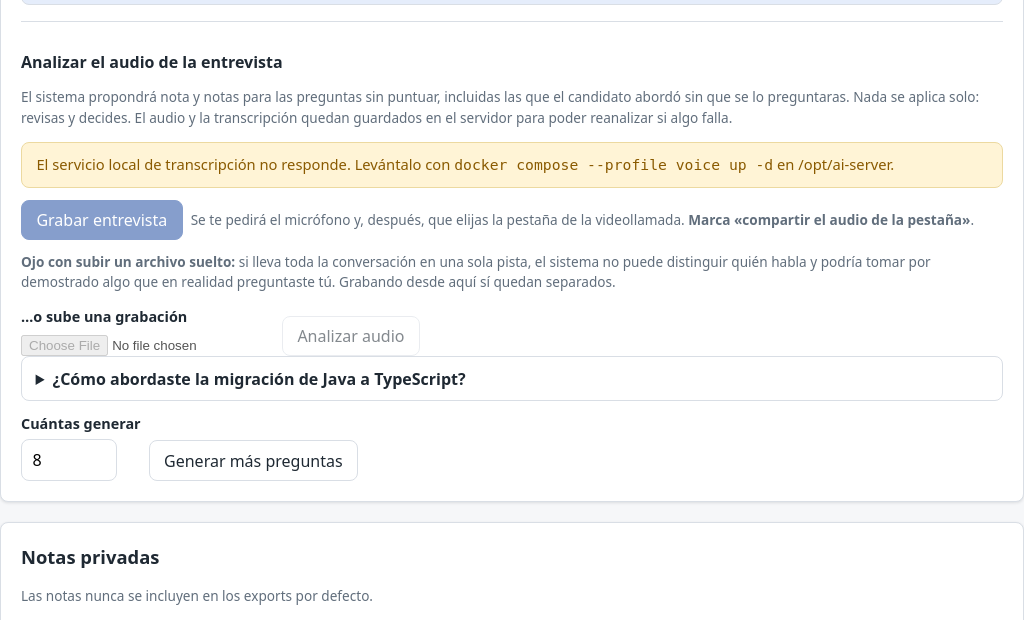
Test: CandidateDetailPage · entrevista › no pinta «Qué valida» aunque la pregunta antigua traiga el campo
(page scrolled)
Click the heading "¿Cómo abordaste la migración de Java a TypeScript?" at (259, 379), box [52,368,466,390]
(page scrolled)
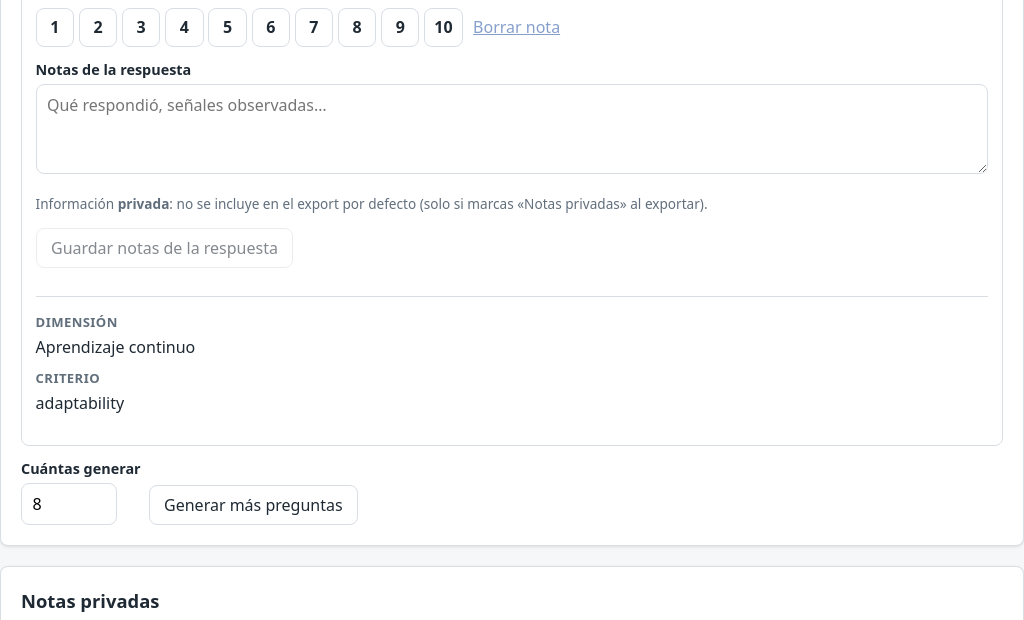
Now the text "Dimensión" is shown, box [36,313,118,331]
Now the text "Criterio" is shown, box [36,369,100,387]
